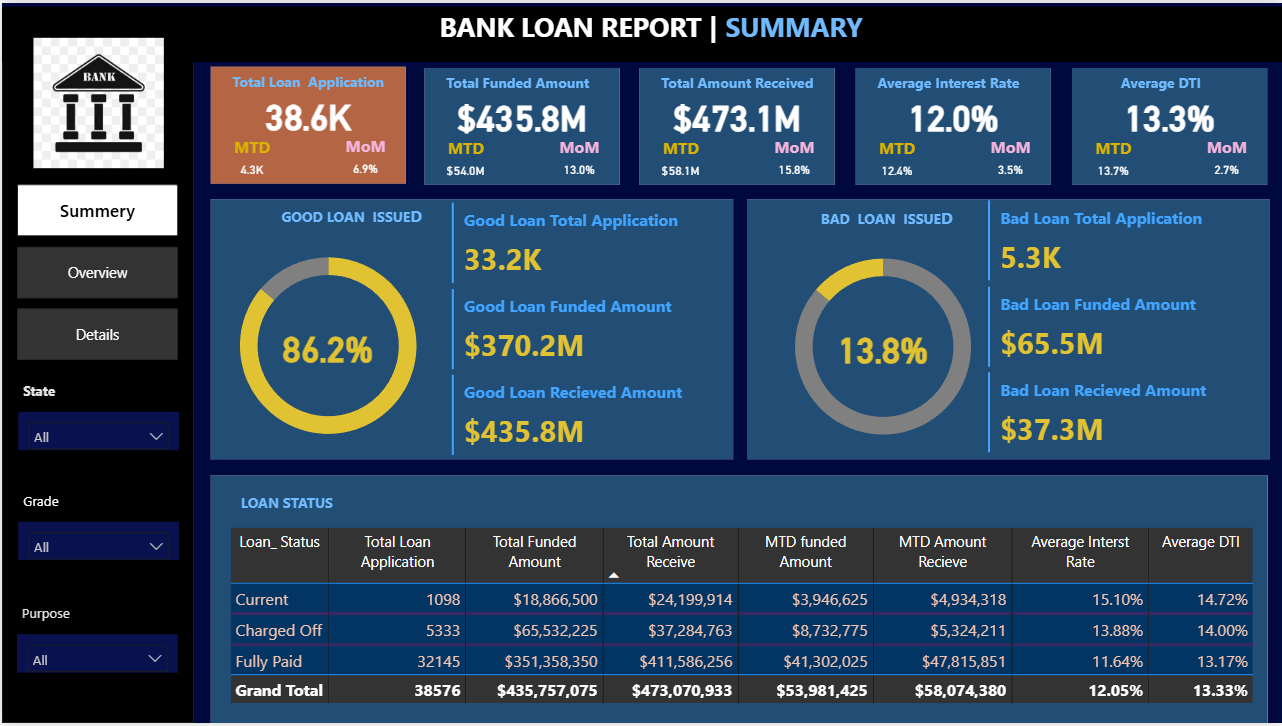

The page's visual inventory and layout, read from the dashboard file:
{"tool":"powerbi","page":{"name":"Summery","canvas":[1280,720],"ordinal":0},"visuals":[{"type":"shape","box":[208.2,63.1,195.1,117],"z":0,"group":"g1"},{"type":"shape","box":[422.8,64.4,195.1,117],"z":0,"group":"g2"},{"type":"shape","box":[637.6,64.4,195.1,117],"z":0,"group":"g3"},{"type":"shape","box":[853.5,64.4,195.1,117],"z":0,"group":"g4"},{"type":"shape","box":[1069.5,64.4,195.1,117],"z":0,"group":"g5"},{"type":"shape","box":[208.8,196.2,522.5,260],"z":0},{"type":"textbox","box":[0,55.2,192,665],"z":1000},{"type":"card","fields":{"Values":["financial_loan.TOTAL LOAN APPLICATION"]},"box":[208.2,81.5,195.1,58.9],"z":1000,"group":"g1"},{"type":"card","fields":{"Values":["financial_loan.Total Funded Amount"]},"box":[422.8,82.8,195.1,58.9],"z":1000,"group":"g2"},{"type":"card","fields":{"Values":["financial_loan.Total Amount Receive"]},"box":[637.6,82.8,195.1,58.9],"z":1000,"group":"g3"},{"type":"card","fields":{"Values":["financial_loan.Average Interst Rate"]},"box":[853.5,82.8,195.1,58.9],"z":1000,"group":"g4"},{"type":"card","fields":{"Values":["financial_loan.Average DTI"]},"box":[1069.5,82.8,195.1,58.9],"z":1000,"group":"g5"},{"type":"textbox","box":[0,3.8,1280,55],"z":2000},{"type":"textbox","box":[209.4,63.1,195.1,35.6],"z":2000,"group":"g1"},{"type":"textbox","box":[424,64.4,195.1,35.6],"z":2000,"group":"g2"},{"type":"textbox","box":[638.8,64.4,195.1,35.6],"z":2000,"group":"g3"},{"type":"textbox","box":[854.7,64.4,195.1,35.6],"z":2000,"group":"g4"},{"type":"textbox","box":[1070.7,64.4,195.1,35.6],"z":2000,"group":"g5"},{"type":"card","title":"MTD ","fields":{"Values":["financial_loan.MTD Loan Application"]},"box":[208.8,131.3,82.9,48.6],"z":3000,"group":"g1"},{"type":"card","title":"MTD ","fields":{"Values":["financial_loan.MTD funded Amount"]},"box":[423.4,132.6,82.9,48.6],"z":3000,"group":"g2"},{"type":"card","title":"MTD ","fields":{"Values":["financial_loan.MTD Amount Recieve"]},"box":[638.2,132.6,82.9,48.6],"z":3000,"group":"g3"},{"type":"card","title":"MTD ","fields":{"Values":["financial_loan.MTD avg Interst Rate"]},"box":[854.1,132.6,82.9,48.6],"z":3000,"group":"g4"},{"type":"card","title":"MTD ","fields":{"Values":["financial_loan.MTD Average DTI"]},"box":[1070.1,132.6,82.9,48.6],"z":3000,"group":"g5"},{"type":"textbox","box":[250.3,196.3,181.6,42.9],"z":3000,"group":"g6"},{"type":"textbox","box":[786.1,198.8,181.6,42.9],"z":3000,"group":"g7"},{"type":"textbox","box":[16,374.2,90.8,35.6],"z":3000,"group":"g8"},{"type":"shape","box":[208.6,472.4,1056.4,247.9],"z":3000},{"type":"textbox","box":[16,483.4,90.8,35.6],"z":3000,"group":"g9"},{"type":"textbox","box":[14.7,596.3,90.8,35.6],"z":3000,"group":"g10"},{"type":"card","title":"MoM","fields":{"Values":["financial_loan.MoM Loan Application"]},"box":[322.3,131.2,82.2,48.9],"z":4000,"group":"g1"},{"type":"card","title":"MoM","fields":{"Values":["financial_loan.MoM Funded Amount"]},"box":[536.9,132.5,82.2,48.9],"z":4000,"group":"g2"},{"type":"card","title":"MoM","fields":{"Values":["financial_loan.MoM Amount Recieve"]},"box":[751.7,132.5,82.2,48.9],"z":4000,"group":"g3"},{"type":"card","title":"MoM","fields":{"Values":["financial_loan.MoM Avg Interst Rate"]},"box":[967.6,132.5,82.2,48.9],"z":4000,"group":"g4"},{"type":"card","title":"MoM","fields":{"Values":["financial_loan.MoM Avg DTI"]},"box":[1183.6,132.5,82.2,48.9],"z":4000,"group":"g5"},{"type":"textbox","box":[229.4,484.7,195.1,35.6],"z":4000},{"type":"card","fields":{"Values":["financial_loan.Good Loan Percentage"]},"box":[260.1,314.1,131.3,60.1],"z":5000},{"type":"textbox","box":[431.9,0,504.3,55.2],"z":6000},{"type":"group","id":"g1","title":"Group 1","box":[208.2,63.1,196.7,116.7],"z":7000},{"type":"group","id":"g2","title":"Group 1","box":[422.8,64.4,196.9,116.4],"z":8000},{"type":"group","id":"g3","title":"Group 1","box":[637.6,64.4,198.1,116.4],"z":9000},{"type":"group","id":"g4","title":"Group 1","box":[853.5,64.4,198.1,116.4],"z":10000},{"type":"group","id":"g5","title":"Group 1","box":[1069.5,64.4,198.1,116.4],"z":11000},{"type":"shape","box":[745,196.2,522.5,260],"z":12000},{"type":"donutChart","fields":{"Category":["financial_loan.loan_status (groups)"],"Y":["financial_loan.TOTAL LOAN APPLICATION"]},"box":[200.6,227.8,250.3,230.7],"z":12000,"group":"g6"},{"type":"donutChart","fields":{"Category":["financial_loan.loan_status (groups)"],"Y":["financial_loan.TOTAL LOAN APPLICATION"]},"box":[755.8,228.7,250,230],"z":12000,"group":"g7"},{"type":"cardVisual","fields":{"Data":["financial_loan.Good Loan Total Application","financial_loan.Good Loan Funded Amount","financial_loan.Good Loan Recieved Amount"]},"box":[445.4,195.1,285.9,263.8],"z":13000},{"type":"group","id":"g6","title":"Group 2","box":[200.6,196.3,250.3,262.2],"z":14000},{"type":"group","id":"g7","title":"Group 2","box":[755.8,198.8,250.3,260.1],"z":15000},{"type":"card","fields":{"Values":["financial_loan.Bad Loan Percentage"]},"box":[790.2,315.3,181.6,60.1],"z":16000},{"type":"cardVisual","fields":{"Data":["financial_loan.Bad Loan Total Application","financial_loan.Bad Loan Funded Amount","financial_loan.Bad Loan Recieved Amount"]},"box":[981.6,192.6,285.9,263.8],"z":17000},{"type":"tableEx","fields":{"Values":["financial_loan.loan_status","financial_loan.TOTAL LOAN APPLICATION","financial_loan.Total Funded Amount","financial_loan.Total Amount Receive","financial_loan.MTD funded Amount","financial_loan.MTD Amount Recieve","financial_loan.Average Interst Rate","financial_loan.Average DTI"]},"box":[222.1,520.2,1043,200],"z":18000},{"type":"group","id":"g8","title":"Group 3","box":[16,374.2,160.7,73.6],"z":19000},{"type":"slicer","fields":{"Values":["financial_loan.address_state"]},"box":[16,409.8,160.7,38],"z":20000,"group":"g8"},{"type":"group","id":"g9","title":"Group 3","box":[16,483.4,160.7,73.6],"z":20000},{"type":"slicer","fields":{"Values":["financial_loan.grade"]},"box":[16,519,160.7,38],"z":20000,"group":"g9"},{"type":"slicer","fields":{"Values":["financial_loan.purpose"]},"box":[14.7,631.9,160.7,38],"z":20000,"group":"g10"},{"type":"group","id":"g10","title":"Group 3","box":[14.7,596.3,160.7,73.6],"z":21000},{"type":"image","box":[16,29.4,160.7,139.9],"z":22000},{"type":"pageNavigator","box":[14.7,181.6,162,177.9],"z":23000}]}

Visuals, with their boxes in screenshot pixels (x1, y1, x2, y2), scaled from the page's 1280x720 canvas onto the 1282x726 screenshot:
shape: Rect(209, 64, 404, 182)
shape: Rect(423, 65, 619, 183)
shape: Rect(639, 65, 834, 183)
shape: Rect(855, 65, 1050, 183)
shape: Rect(1071, 65, 1267, 183)
shape: Rect(209, 198, 732, 460)
textbox: Rect(0, 56, 192, 725)
card - financial_loan.TOTAL LOAN APPLICATION: Rect(209, 82, 404, 142)
card - financial_loan.Total Funded Amount: Rect(423, 83, 619, 143)
card - financial_loan.Total Amount Receive: Rect(639, 83, 834, 143)
card - financial_loan.Average Interst Rate: Rect(855, 83, 1050, 143)
card - financial_loan.Average DTI: Rect(1071, 83, 1267, 143)
textbox: Rect(0, 4, 1281, 59)
textbox: Rect(210, 64, 405, 100)
textbox: Rect(425, 65, 620, 101)
textbox: Rect(640, 65, 835, 101)
textbox: Rect(856, 65, 1051, 101)
textbox: Rect(1072, 65, 1268, 101)
"MTD " card: Rect(209, 132, 292, 181)
"MTD " card: Rect(424, 134, 507, 183)
"MTD " card: Rect(639, 134, 722, 183)
"MTD " card: Rect(855, 134, 938, 183)
"MTD " card: Rect(1072, 134, 1155, 183)
textbox: Rect(251, 198, 433, 241)
textbox: Rect(787, 200, 969, 244)
textbox: Rect(16, 377, 107, 413)
shape: Rect(209, 476, 1267, 725)
textbox: Rect(16, 487, 107, 523)
textbox: Rect(15, 601, 106, 637)
"MoM" card: Rect(323, 132, 405, 182)
"MoM" card: Rect(538, 134, 620, 183)
"MoM" card: Rect(753, 134, 835, 183)
"MoM" card: Rect(969, 134, 1051, 183)
"MoM" card: Rect(1185, 134, 1268, 183)
textbox: Rect(230, 489, 425, 525)
card - financial_loan.Good Loan Percentage: Rect(261, 317, 392, 377)
textbox: Rect(433, 0, 938, 56)
"Group 1" group: Rect(209, 64, 406, 181)
"Group 1" group: Rect(423, 65, 621, 182)
"Group 1" group: Rect(639, 65, 837, 182)
"Group 1" group: Rect(855, 65, 1053, 182)
"Group 1" group: Rect(1071, 65, 1270, 182)
shape: Rect(746, 198, 1269, 460)
donutChart - financial_loan.loan_status (groups) x financial_loan.TOTAL LOAN APPLICATION: Rect(201, 230, 452, 462)
donutChart - financial_loan.loan_status (groups) x financial_loan.TOTAL LOAN APPLICATION: Rect(757, 231, 1007, 463)
cardVisual - financial_loan.Good Loan Total Application x financial_loan.Good Loan Funded Amount: Rect(446, 197, 732, 463)
"Group 2" group: Rect(201, 198, 452, 462)
"Group 2" group: Rect(757, 200, 1008, 463)
card - financial_loan.Bad Loan Percentage: Rect(791, 318, 973, 379)
cardVisual - financial_loan.Bad Loan Total Application x financial_loan.Bad Loan Funded Amount: Rect(983, 194, 1269, 460)
tableEx - financial_loan.loan_status x financial_loan.TOTAL LOAN APPLICATION: Rect(222, 525, 1267, 725)
"Group 3" group: Rect(16, 377, 177, 452)
slicer - financial_loan.address_state: Rect(16, 413, 177, 452)
"Group 3" group: Rect(16, 487, 177, 562)
slicer - financial_loan.grade: Rect(16, 523, 177, 562)
slicer - financial_loan.purpose: Rect(15, 637, 176, 675)
"Group 3" group: Rect(15, 601, 176, 675)
image: Rect(16, 30, 177, 171)
pageNavigator: Rect(15, 183, 177, 362)
